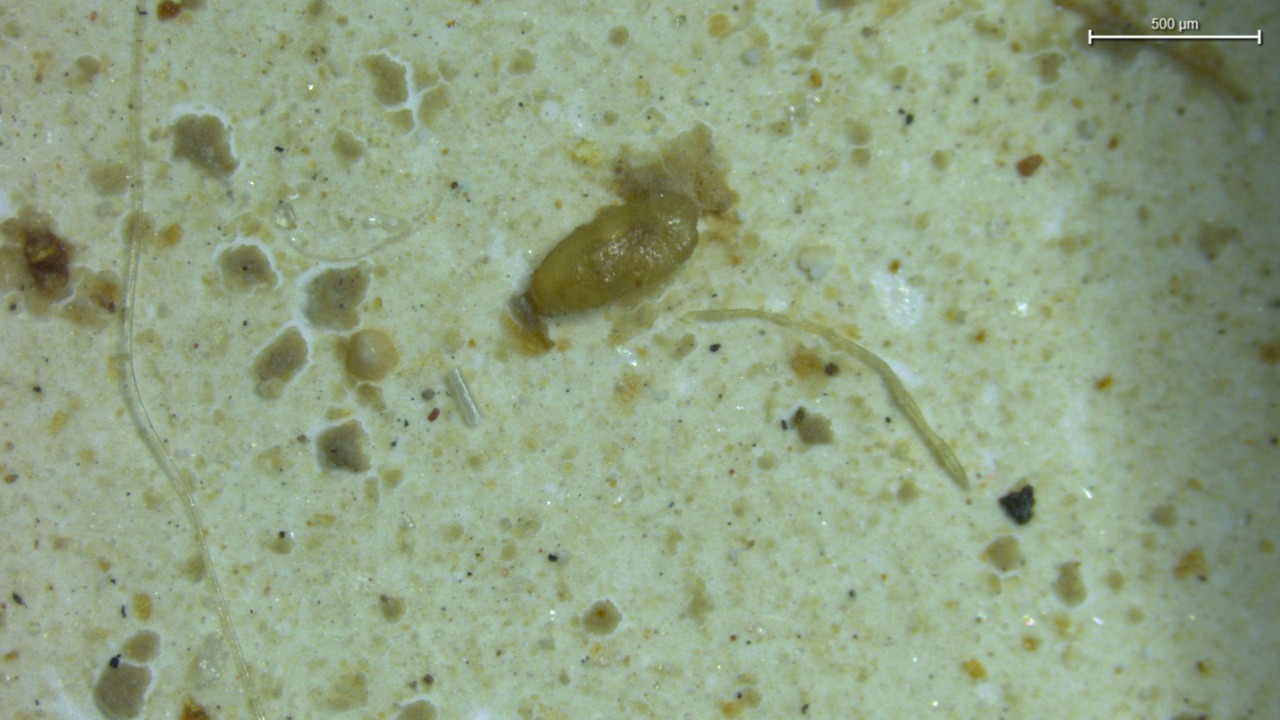microplastic_fragment: (525, 190, 699, 316), (446, 369, 482, 427), (796, 246, 836, 280)
